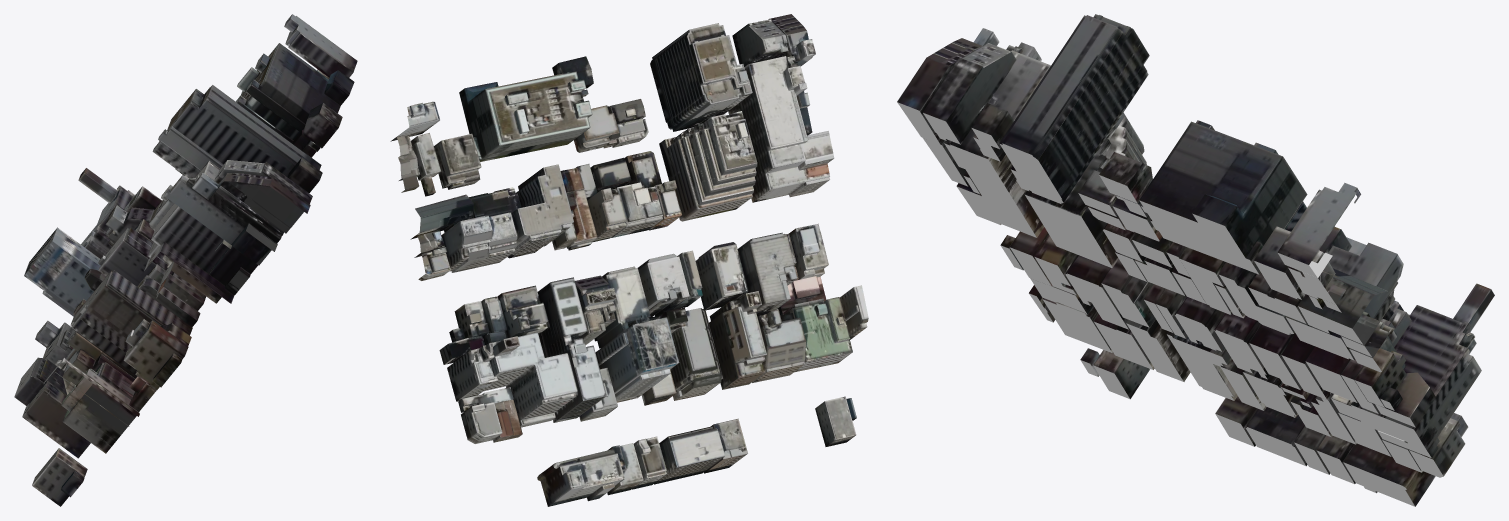
The model's file is 39545_bldg_Building.glb.
3 renders of one model, left to right at view 1: azimuth 30°, elevation 25°; view 2: azimuth 150°, elevation 25°; view 3: azimuth 270°, elevation 25°, orthographic. The views are drawn at different scales.
Bounding box in the file's own units: 134 × 126 × 145.
Materials: 4 (3 with a texture image).
